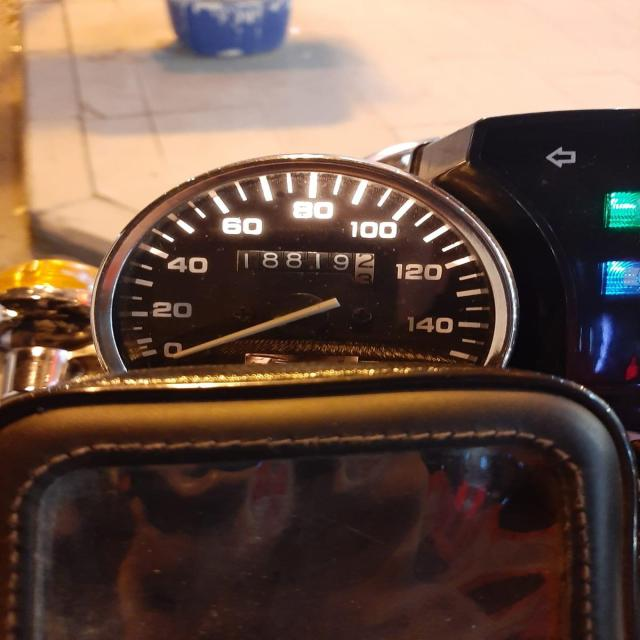odometer: (232, 248, 385, 286)
